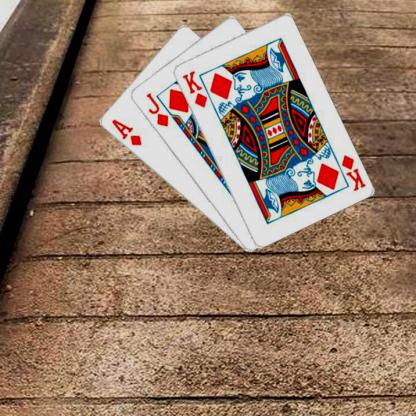AD: (109, 116, 142, 147)
JD: (143, 90, 170, 128)
KD: (338, 152, 367, 192), (180, 68, 208, 109)
